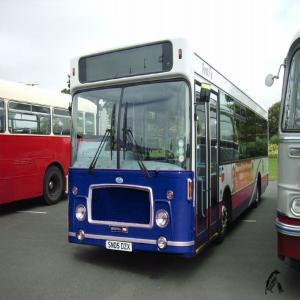Vehicle-registration-plate: (107, 242, 132, 254)
